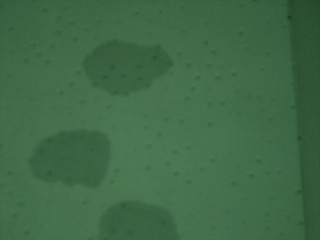Water_detected: (50, 143, 97, 187), (108, 204, 161, 240), (103, 44, 141, 81)
